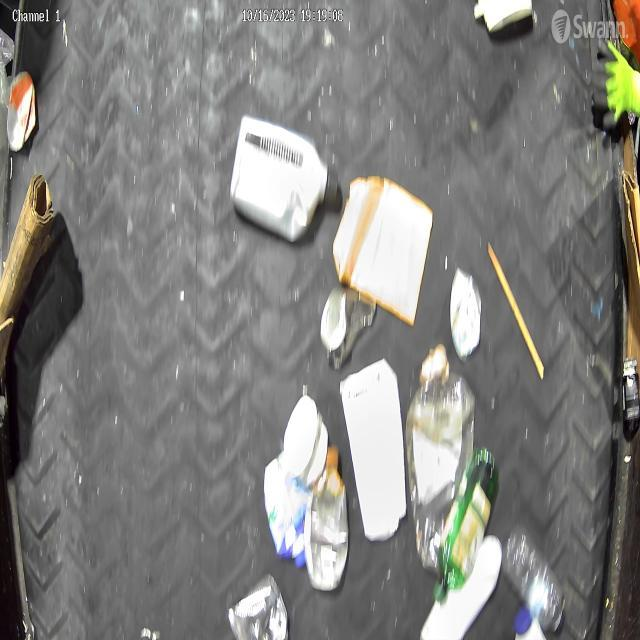can: (318, 285, 376, 370), (227, 569, 293, 640), (448, 262, 484, 358)
non_white_jug: (227, 110, 342, 246)
plastic_bottle: (403, 340, 476, 574), (499, 516, 567, 634)
